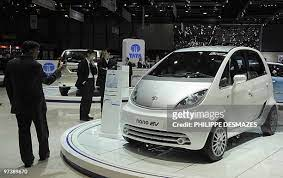Nano: (123, 44, 277, 161)
